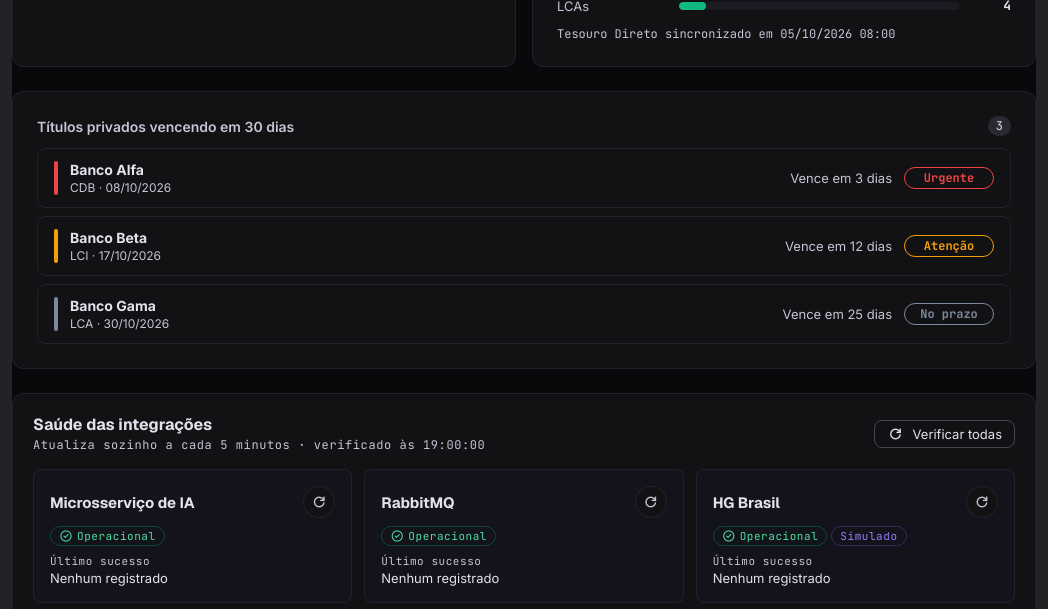
it: DashboardAdminComponent › verificar todas deve trocar a lista inteira e reiniciar a contagem dos 5 minutos
(page scrolled)
What coordinates should you click on to do the following:
click the button with test id "verificar-todas"
I would click on:
 (944, 434)
Its box is [874,420,1015,448].
Wait 300000 ms
(page scrolled)
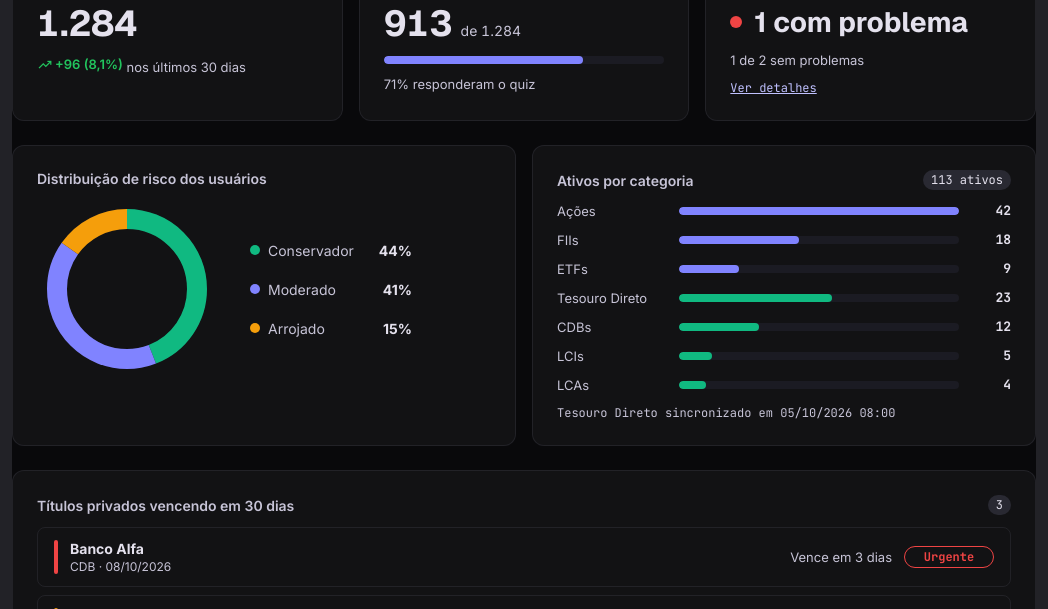
Now the element with test id "card-integracoes" shows "1 com problema", box [754,4,968,40]
